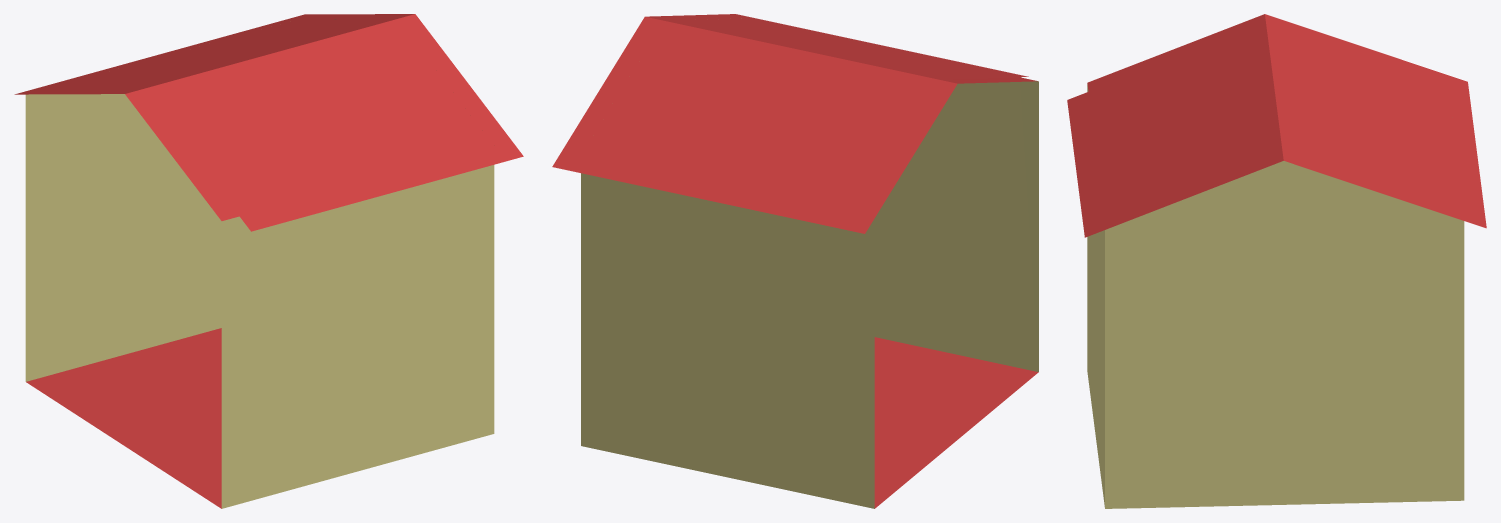
3 renders of one model, left to right at view 1: azimuth 30°, elevation 25°; view 2: azimuth 150°, elevation 25°; view 3: azimuth 270°, elevation 25°, orthographic.
Bounding box in the file's own units: 8.64 × 9.82 × 9.12.
